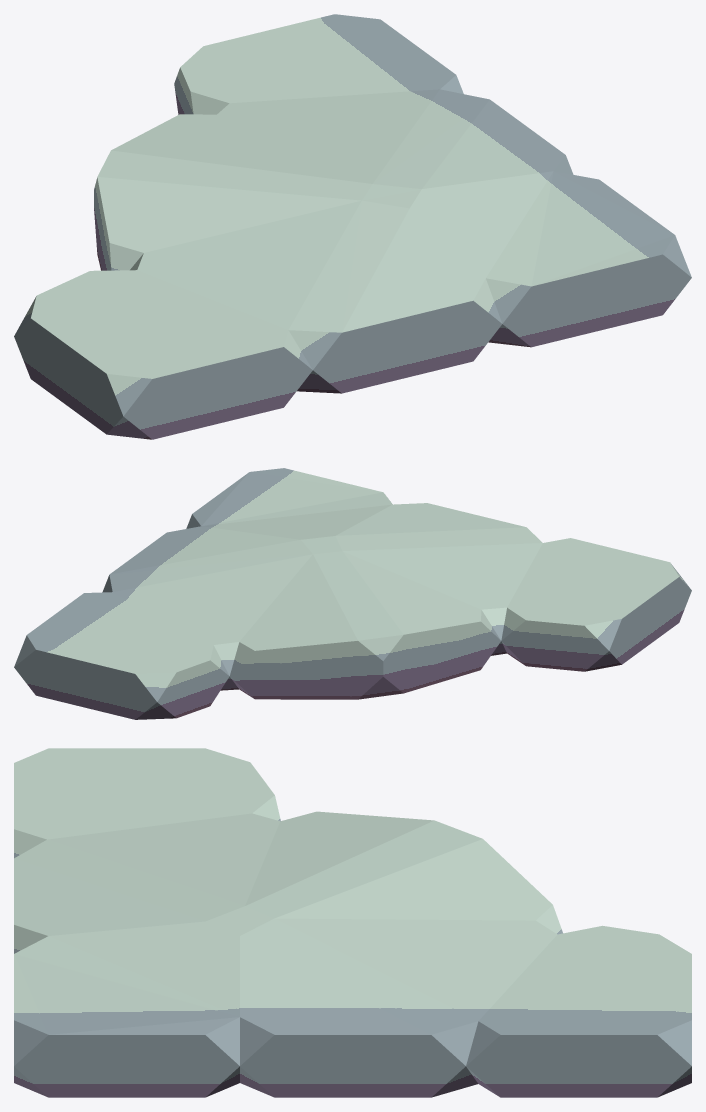
Rendered from Tiles 3.001.fbx.
3 renders of one model, top to bottom at view 1: azimuth 30°, elevation 25°; view 2: azimuth 150°, elevation 25°; view 3: azimuth 270°, elevation 25°, orthographic. The views are drawn at different scales.
Parts seen in each view (by area): view 1: Tiles 3.001; view 2: Tiles 3.001; view 3: Tiles 3.001.
Boxes of the visible parts, bbox=[...] form: Tiles 3.001: bbox=[14, 14, 691, 439]; Tiles 3.001: bbox=[14, 468, 691, 719]; Tiles 3.001: bbox=[14, 748, 691, 1097].
Size of the model in its own units: 495 by 65.79 by 495.
